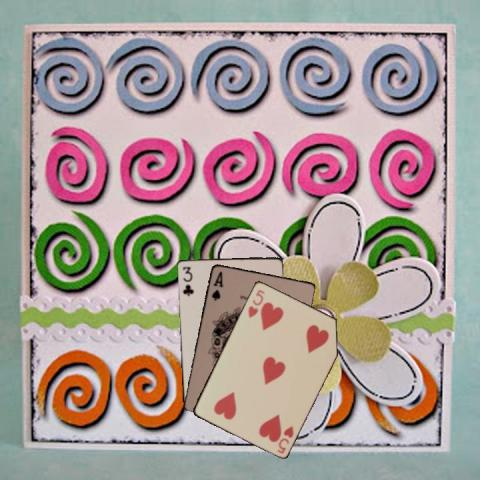3c: (179, 263, 195, 297)
5h: (245, 287, 266, 319), (274, 422, 295, 454)
As: (209, 268, 224, 302)
